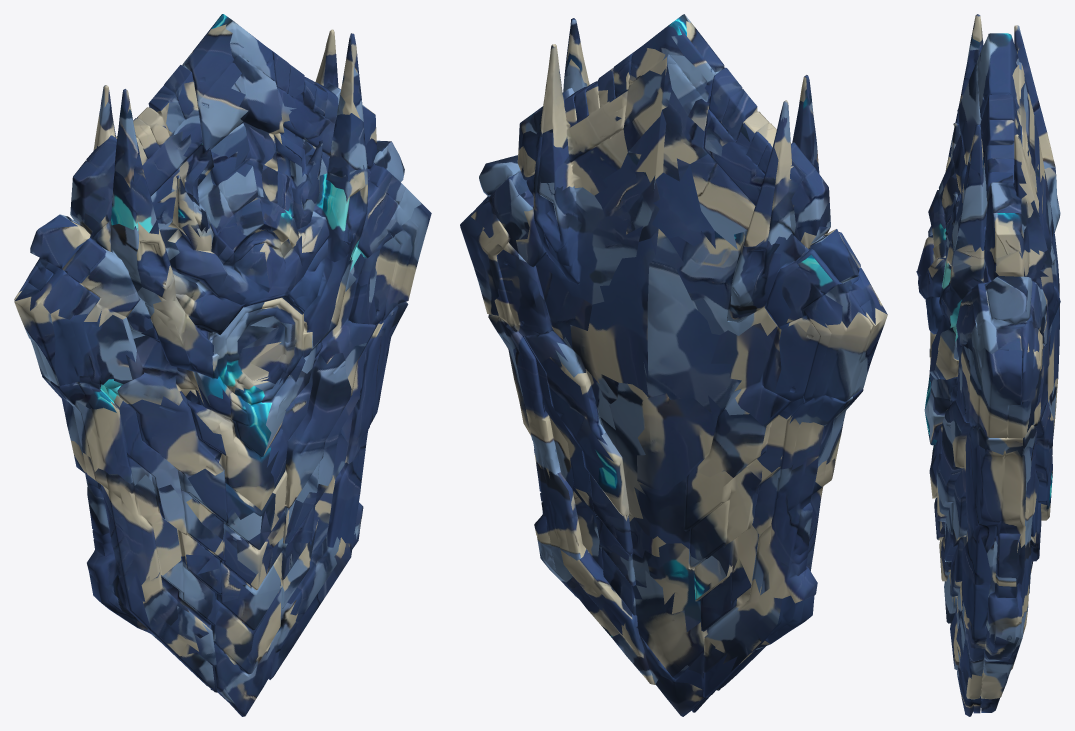
File: ShieldMiddle.gltf
3 renders of one model, left to right at view 1: azimuth 30°, elevation 25°; view 2: azimuth 150°, elevation 25°; view 3: azimuth 270°, elevation 25°, orthographic. The views are drawn at different scales.
Parts seen in each view (by area): view 1: ShieldMiddle; view 2: ShieldMiddle; view 3: ShieldMiddle.
Part boxes in pixels (left/top/right/bottom): ShieldMiddle: left=14, top=14, right=431, bottom=716; ShieldMiddle: left=460, top=14, right=887, bottom=716; ShieldMiddle: left=916, top=14, right=1060, bottom=716.
Bounding box in the file's own units: 0.6039 × 0.9803 × 0.1877.
1 material, 1 textured.
